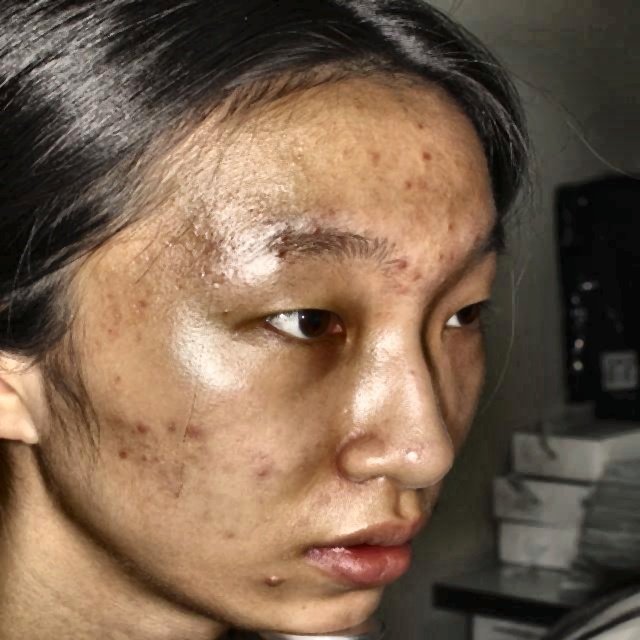pustule: (385, 280, 420, 302), (110, 444, 144, 465), (250, 461, 276, 485), (398, 171, 421, 197), (254, 568, 281, 590), (155, 413, 181, 435), (394, 254, 414, 279), (412, 142, 432, 167), (182, 420, 200, 445), (126, 418, 146, 438), (362, 143, 376, 158)
